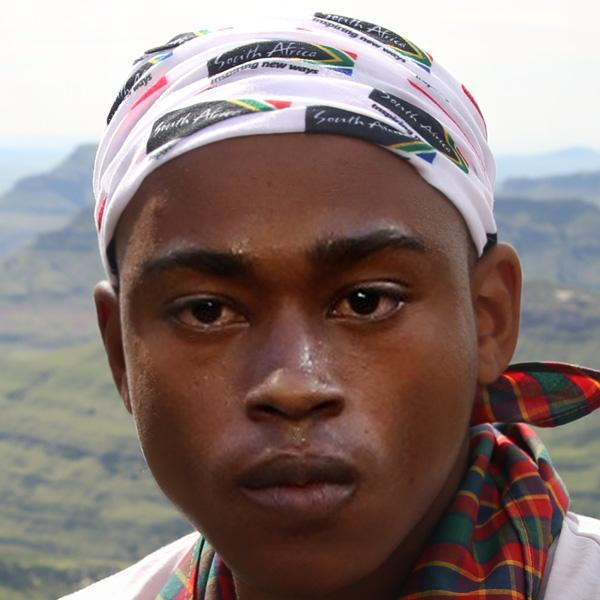Eyes: (313, 269, 426, 334), (155, 287, 258, 345)
